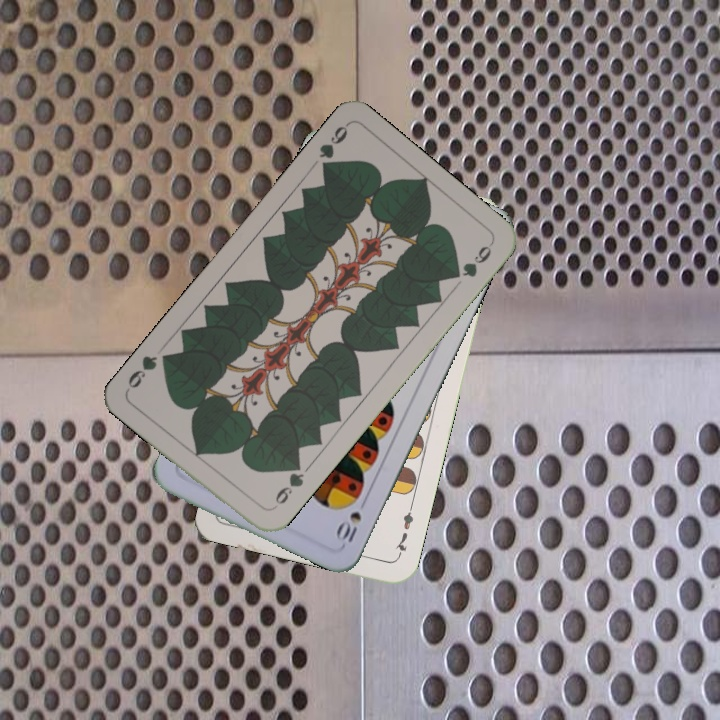E7: (390, 502, 416, 560)
G9: (267, 458, 307, 513), (315, 120, 351, 176)
S10: (333, 507, 364, 545)
